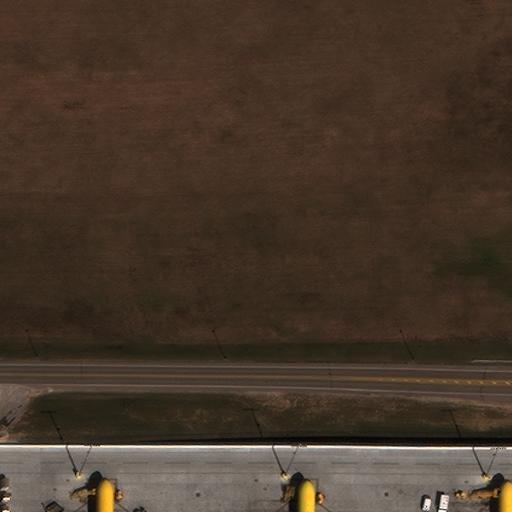Large Civil Transport: (70, 478, 138, 512), (272, 479, 339, 512)
